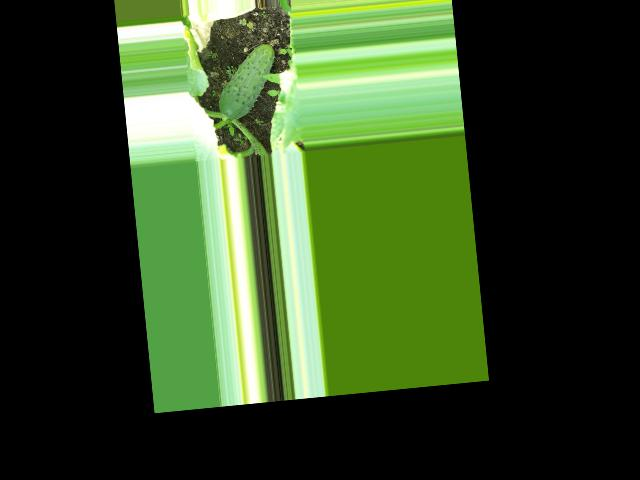cucumber: (213, 43, 280, 121)
